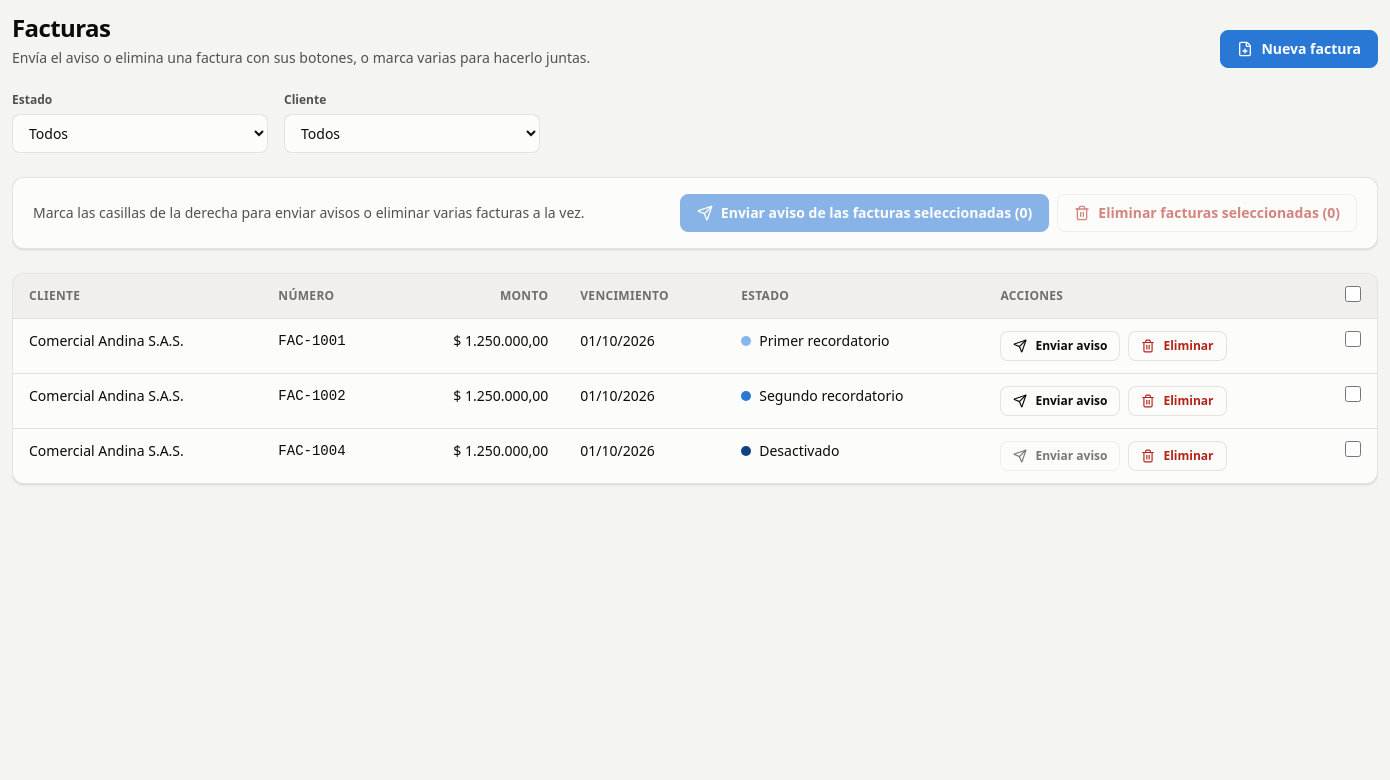
Test: FacturasPage: eliminar facturas › elimina una factura tras confirmar y muestra qué se borró
What coordinates should you click on to do the following:
click the button with aria-label "Eliminar FAC-1001"
I would click on:
 (1178, 346)
Its box is [1128,331,1227,361].
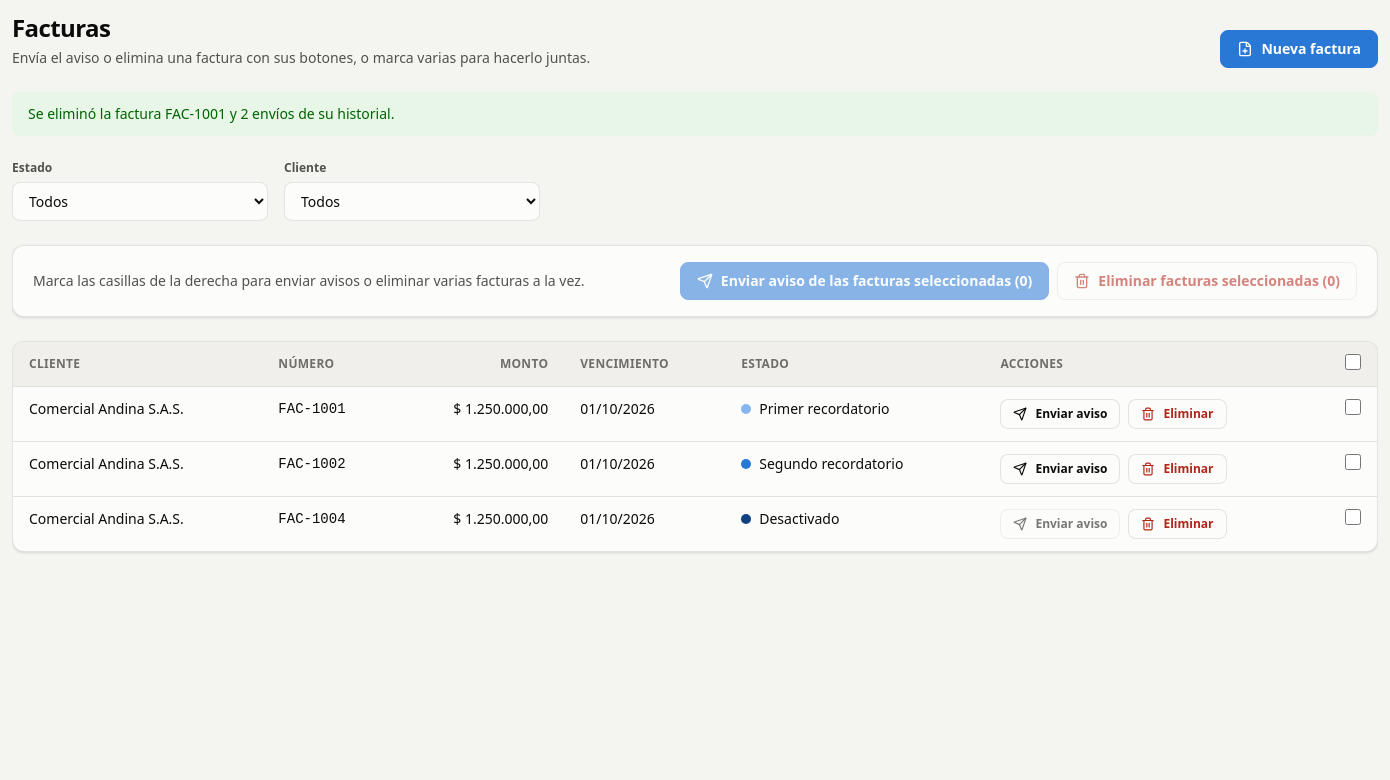
Expected: the message reads "Se eliminó la factura FAC-1001 y 2 envíos de su historial.", [28,104,394,123]
